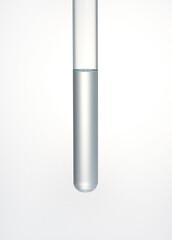Test tube: (69, 1, 104, 192)
